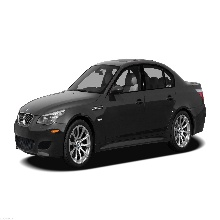no damage: (13, 59, 207, 167)
